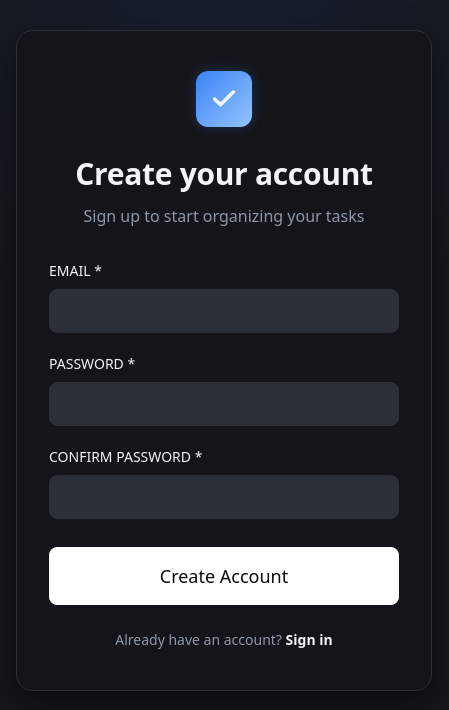
Test: AuthContainer › asks for email confirmation when signup returns no session
Type "person@example.com" into the field labelled "EMAIL *". click: {"x": 224, "y": 310}
box: [49,288,399,332]
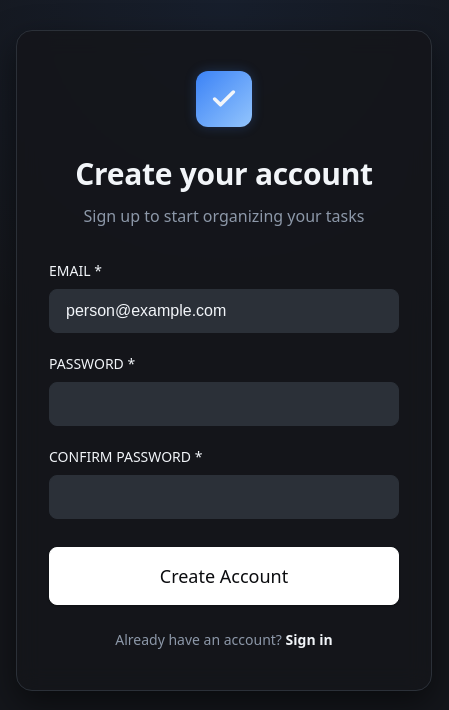
Type "secret123" into the password field labelled "PASSWORD *". click: {"x": 224, "y": 404}
box: [49,382,399,426]
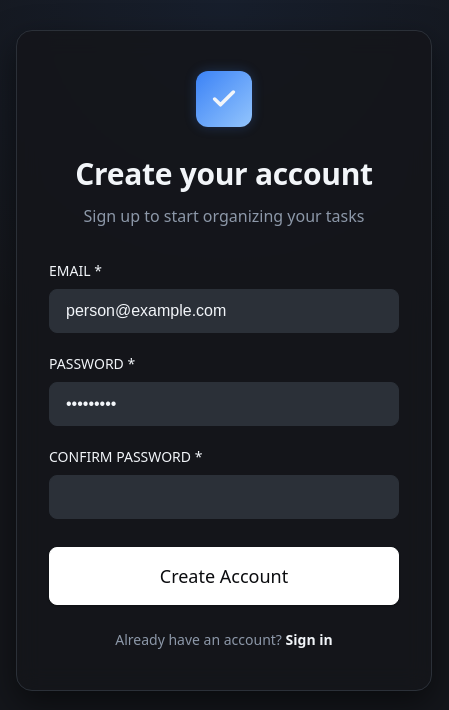
Type "secret123" into the password field labelled "CONFIRM PASSWORD *". click: {"x": 224, "y": 496}
box: [49,474,399,518]
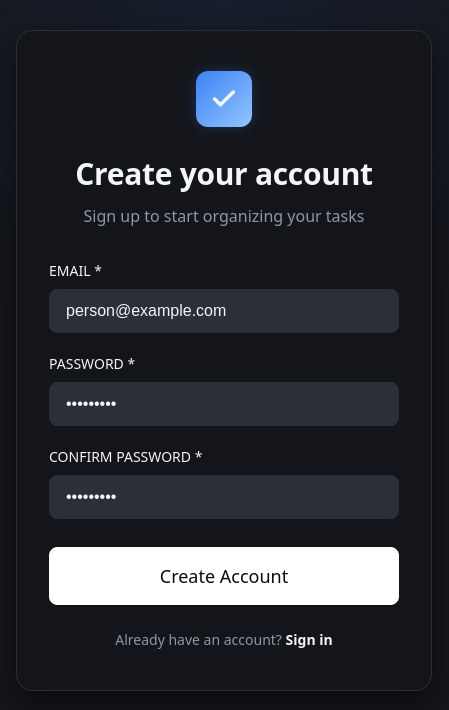
Click the button "Create Account". click: {"x": 224, "y": 576}
box: [49,546,399,604]
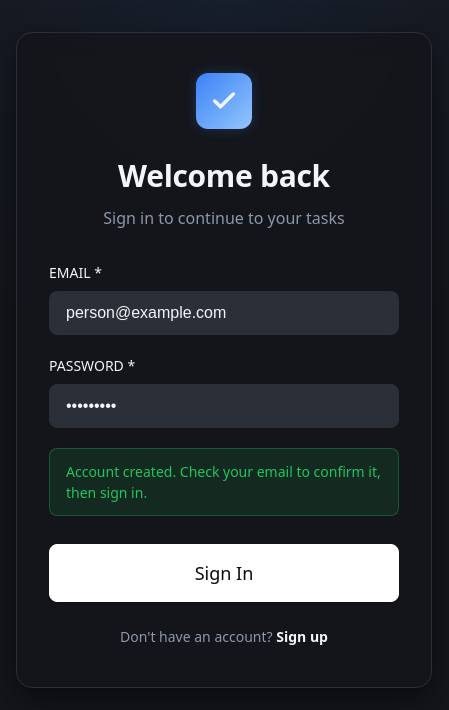
Check: the text "Account created. Check your email to confirm it, then sign in." is shown, box [49,448,399,516]
